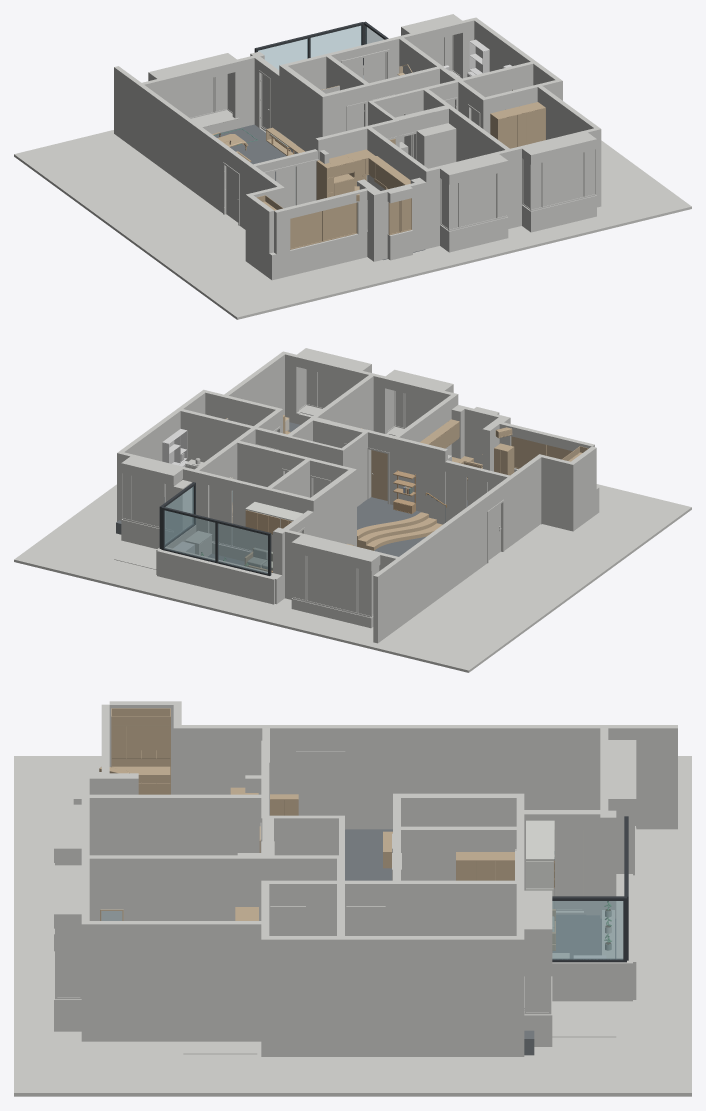
Rendered from interaction_proxy.glb.
The picture shows the model from 3 angles, top to bottom: view 1: azimuth 30°, elevation 25°; view 2: azimuth 150°, elevation 25°; view 3: azimuth 270°, elevation 25°; orthographic projection. The views are drawn at different scales.
Visible parts, largest first — view 1: SITE_GROUND.001, VIEW_WALL_W_wall_md_0006.001, VIEW_WALL_LIVING_FIX_GUEST_BATH_FULL_WALL.001, VIEW_WALL_W_wall_md_0042.001, VIEW_WALL_W_wall_md_0035.001, V4_W-MB-S_FRONT_GLASS_1.001, VIEW_WALL_W_wall_md_0034.001, V4_W-SMB-S_FRONT_GLASS_1.001, VIEW_WALL_W_wall_md_0007.001, VIEW_WALL_W_wall_md_0021.001, VIEW_WALL_W_wall_md_0030.001, VIEW_WALL_W_wall_md_0060.001 (+46 smaller); view 2: SITE_GROUND.001, VIEW_WALL_W_wall_md_0006.001, VIEW_WALL_W_wall_md_0062.001, VIEW_WALL_W_wall_md_0005.001, VIEW_WALL_W_wall_md_0044.001, VIEW_WALL_W_wall_md_0043.001, VIEW_WALL_LIVING_FIX_GUEST_BATH_FULL_WALL.001, LIVING_FIX_BAY_FRONT_GLASS_1.001, VIEW_WALL_W_wall_md_0049.001, VIEW_WALL_W_wall_md_0055.001, NORTH_BALCONY_GLASS_NORTH_B.001, VIEW_WALL_W_wall_md_0007.001 (+55 smaller); view 3: SITE_GROUND.001, VIEW_WALL_W_wall_md_0030.001, VIEW_WALL_W_wall_md_0033.001, VIEW_WALL_W_wall_md_0006.001, VIEW_WALL_W_wall_md_0021.001, VIEW_WALL_W_wall_md_0015.001, VIEW_WALL_W_wall_md_0032.001, VIEW_WALL_W_wall_md_0005.001, VIEW_WALL_W_wall_md_0025.001, VIEW_WALL_W_wall_md_0007.001, VIEW_WALL_W_wall_md_0019.001, NORTH_BALCONY_GLASS_EAST.001 (+38 smaller).
Part boxes in pixels (<box>): SITE_GROUND.001: <box>14,128,691,319</box>; VIEW_WALL_W_wall_md_0006.001: <box>139,85,227,212</box>; VIEW_WALL_LIVING_FIX_GUEST_BATH_FULL_WALL.001: <box>282,66,325,153</box>; VIEW_WALL_W_wall_md_0042.001: <box>276,232,367,278</box>; VIEW_WALL_W_wall_md_0035.001: <box>533,139,594,231</box>; V4_W-MB-S_FRONT_GLASS_1.001: <box>543,152,583,206</box>; VIEW_WALL_W_wall_md_0034.001: <box>451,161,505,251</box>; V4_W-SMB-S_FRONT_GLASS_1.001: <box>460,174,496,226</box>; VIEW_WALL_W_wall_md_0007.001: <box>114,66,141,150</box>; VIEW_WALL_W_wall_md_0021.001: <box>449,107,509,161</box>; VIEW_WALL_W_wall_md_0030.001: <box>537,86,598,139</box>; VIEW_WALL_W_wall_md_0060.001: <box>232,55,254,128</box>; SITE_GROUND.001: <box>14,484,691,672</box>; VIEW_WALL_W_wall_md_0006.001: <box>399,495,487,624</box>; VIEW_WALL_W_wall_md_0062.001: <box>157,547,277,604</box>; VIEW_WALL_W_wall_md_0005.001: <box>499,456,541,550</box>; VIEW_WALL_W_wall_md_0044.001: <box>396,437,441,523</box>; VIEW_WALL_W_wall_md_0043.001: <box>541,455,575,531</box>; VIEW_WALL_LIVING_FIX_GUEST_BATH_FULL_WALL.001: <box>311,470,354,545</box>; LIVING_FIX_BAY_FRONT_GLASS_1.001: <box>307,556,356,612</box>; VIEW_WALL_W_wall_md_0049.001: <box>180,409,253,462</box>; VIEW_WALL_W_wall_md_0055.001: <box>196,470,266,561</box>; NORTH_BALCONY_GLASS_NORTH_B.001: <box>164,510,215,560</box>; VIEW_WALL_W_wall_md_0007.001: <box>373,559,400,643</box>; SITE_GROUND.001: <box>14,756,691,1096</box>; VIEW_WALL_W_wall_md_0030.001: <box>89,921,261,1041</box>; VIEW_WALL_W_wall_md_0033.001: <box>345,936,516,1056</box>; VIEW_WALL_W_wall_md_0006.001: <box>345,725,600,829</box>; VIEW_WALL_W_wall_md_0021.001: <box>89,855,261,920</box>; VIEW_WALL_W_wall_md_0015.001: <box>89,794,261,855</box>; VIEW_WALL_W_wall_md_0032.001: <box>261,936,336,1056</box>; VIEW_WALL_W_wall_md_0005.001: <box>181,725,296,794</box>; VIEW_WALL_W_wall_md_0025.001: <box>401,880,516,935</box>; VIEW_WALL_W_wall_md_0007.001: <box>608,725,677,829</box>; VIEW_WALL_W_wall_md_0019.001: <box>401,826,516,880</box>; NORTH_BALCONY_GLASS_EAST.001: <box>552,901,623,959</box>.
Bounding box in the file's own units: 20 × 3.37 × 17.
